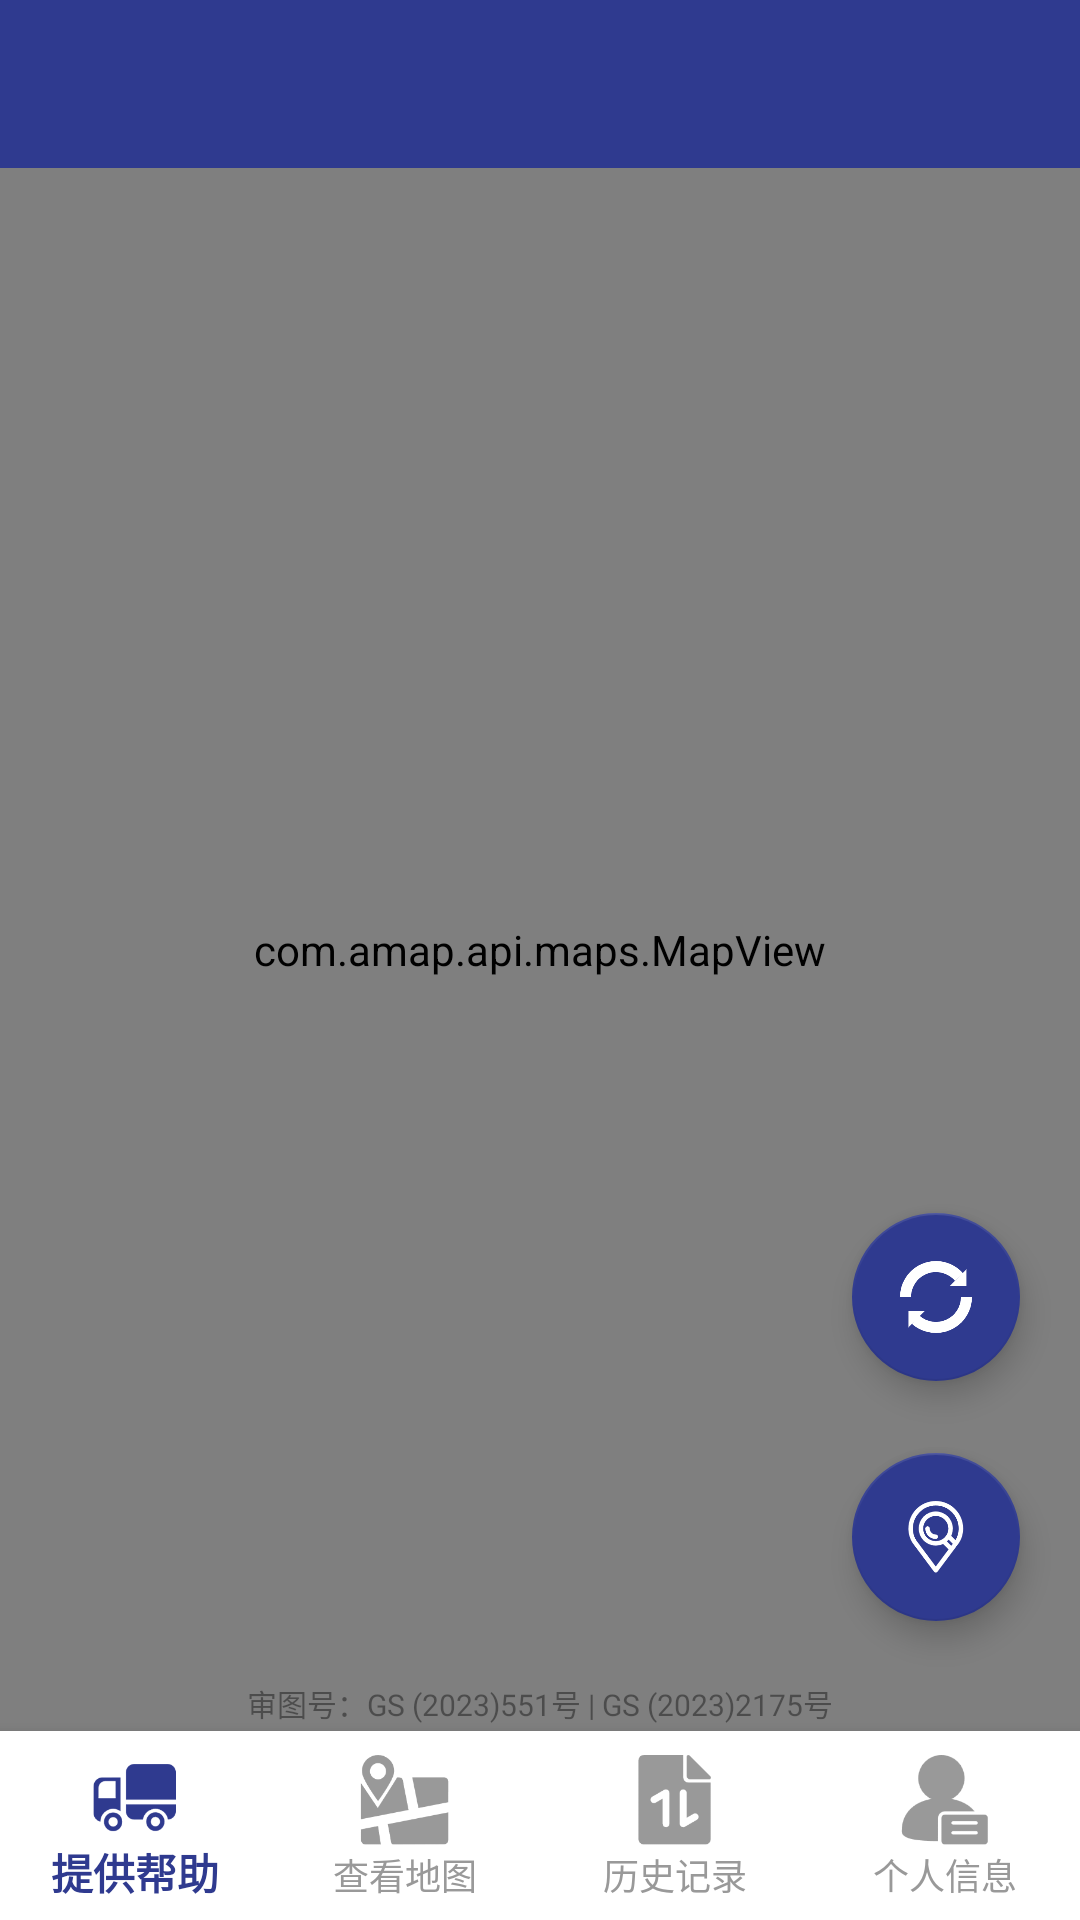

Icon bounding boxes for this 1080 × 1920 phone screenshot, format detection(x1, y1, x2, y2):
刷新: detection(852, 1213, 1020, 1381)
定位到自己: detection(852, 1453, 1020, 1621)
